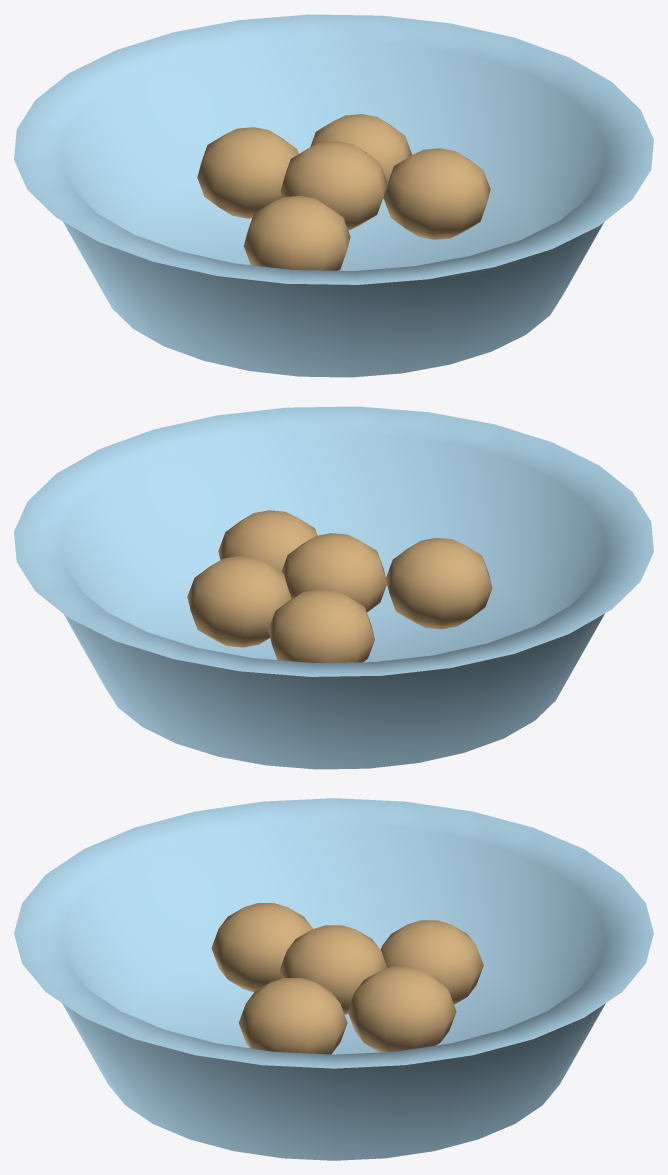
The model's file is food_bowl.glb.
3 renders of one model, top to bottom at view 1: azimuth 30°, elevation 25°; view 2: azimuth 150°, elevation 25°; view 3: azimuth 270°, elevation 25°, orthographic.
Parts seen in each view (by area): view 1: bowl, food_2, food_3, food_4, food_1, food_5; view 2: bowl, food_3, food_5, food_4, food_1, food_2; view 3: bowl, food_5, food_2, food_3, food_1, food_4.
Part boxes in pixels (x1,y1,x2,y2): bowl: (14,14,653,377); food_2: (384,148,490,239); food_3: (243,195,350,270); food_4: (197,127,298,218); food_1: (280,141,387,230); food_5: (310,114,412,198); bowl: (14,406,653,769); food_3: (386,537,492,629); food_5: (187,556,291,647); food_4: (268,589,374,662); food_1: (281,533,387,611); food_2: (218,510,317,571); bowl: (14,798,653,1160); food_5: (347,966,456,1052); food_2: (239,978,347,1054); food_3: (211,903,312,992); food_1: (279,925,387,1014); food_4: (380,920,483,1004).
Bounding box in the file's own units: 0.47 × 0.107 × 0.47.
